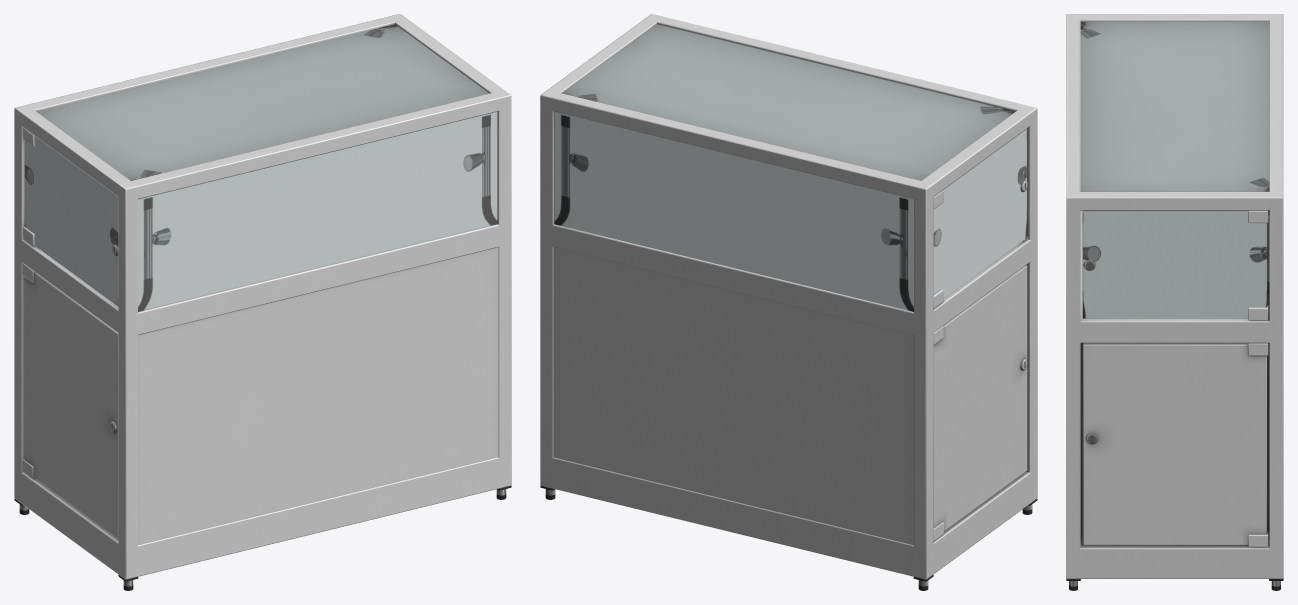
The model's file is torri.glb.
The picture shows the model from 3 angles, left to right: view 1: azimuth 30°, elevation 25°; view 2: azimuth 150°, elevation 25°; view 3: azimuth 270°, elevation 25°; orthographic projection. The views are drawn at different scales.
Parts seen in each view (by area): view 1: torri-white_body, torri-white_glass; view 2: torri-white_body, torri-white_glass; view 3: torri-white_body, torri-white_glass.
Part boxes in pixels (x1,y1,x2,y2): torri-white_body: [14, 14, 511, 590]; torri-white_glass: [24, 24, 497, 311]; torri-white_body: [540, 14, 1037, 590]; torri-white_glass: [554, 24, 1026, 311]; torri-white_body: [1066, 14, 1283, 590]; torri-white_glass: [1080, 22, 1269, 318].
Size of the model in its own units: 0.9021 by 0.8999 by 0.4499.
Materials: 2 (2 with a texture image).
